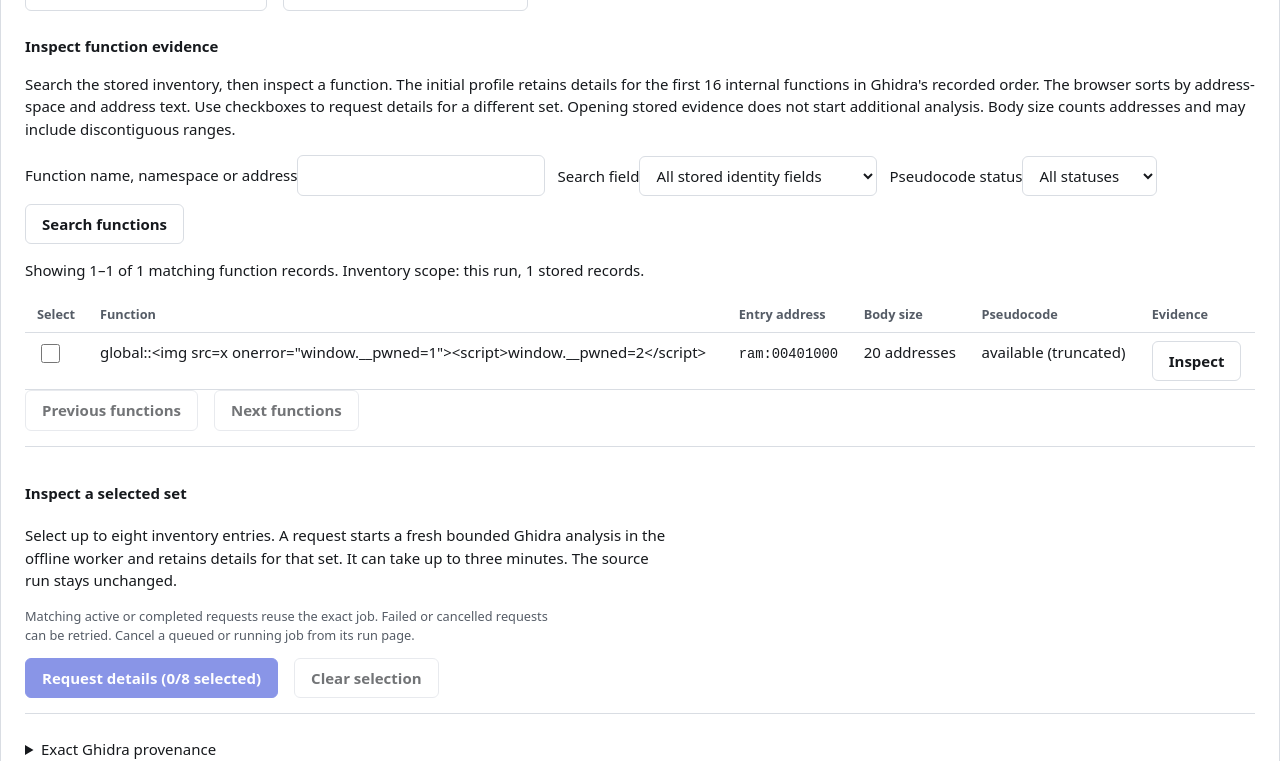
Test: explores exact one-hop evidence with unresolved targets and partial limits
(page scrolled)
Click the button "Inspect" at (1197, 361), box [1152,341,1241,381]
(page scrolled)
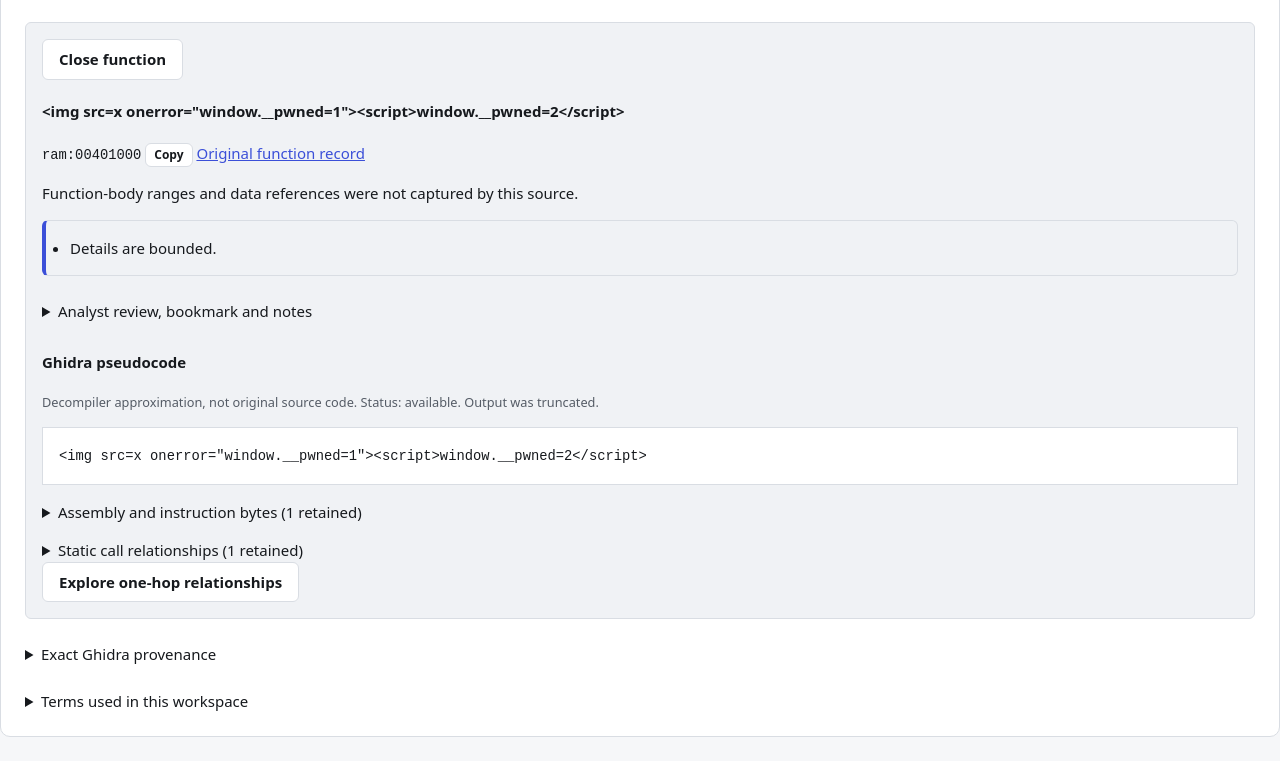
Click the button "Explore one-hop relationships" at (171, 582), box [42,562,299,602]
(page scrolled)
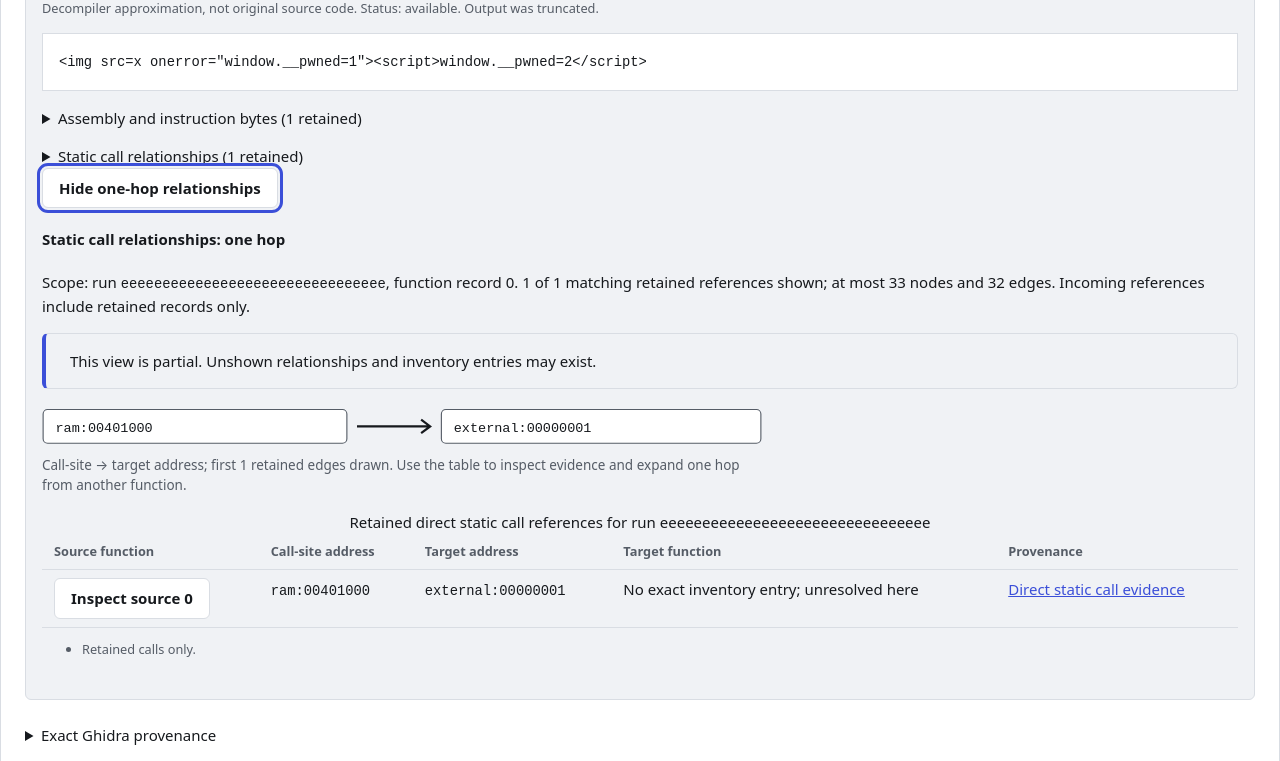
Result: the text "No exact inventory entry; unresolved here" is shown at [611,570,996,627]
Result: the text "This view is partial" is shown at [70,351,596,371]
